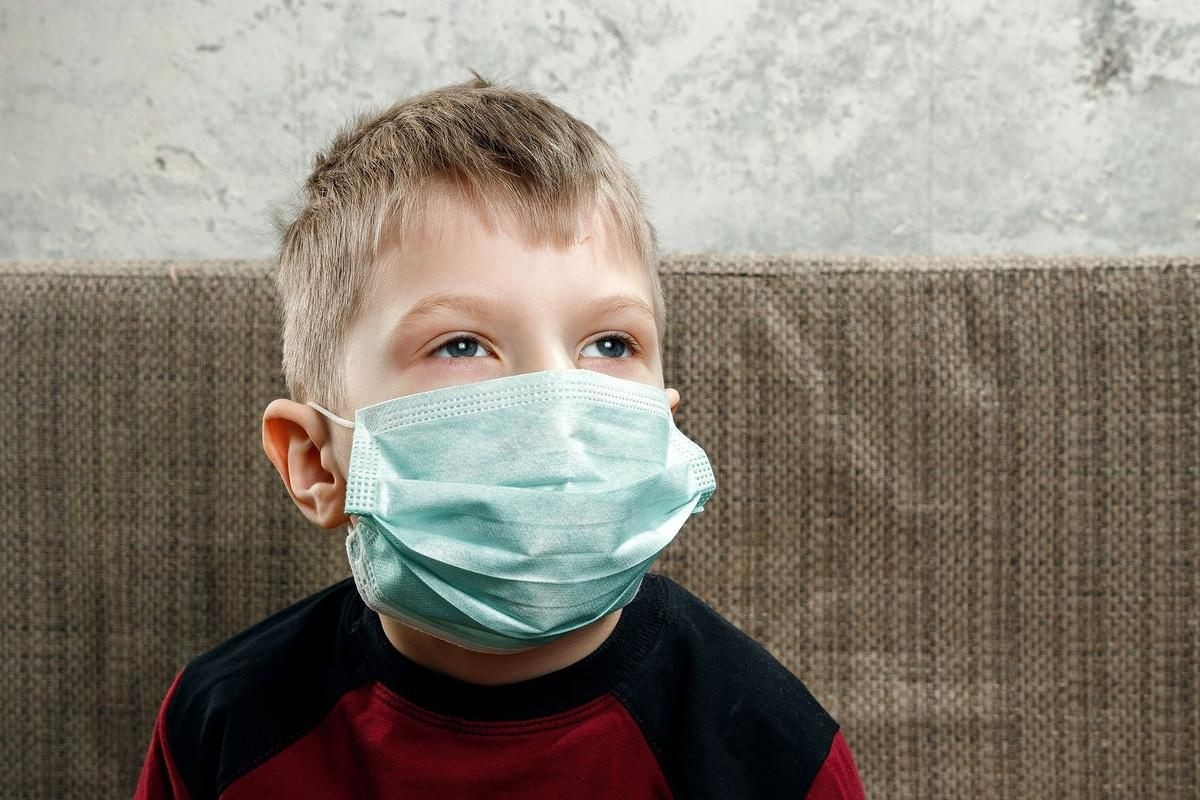face_with_mask: (251, 135, 730, 667)
